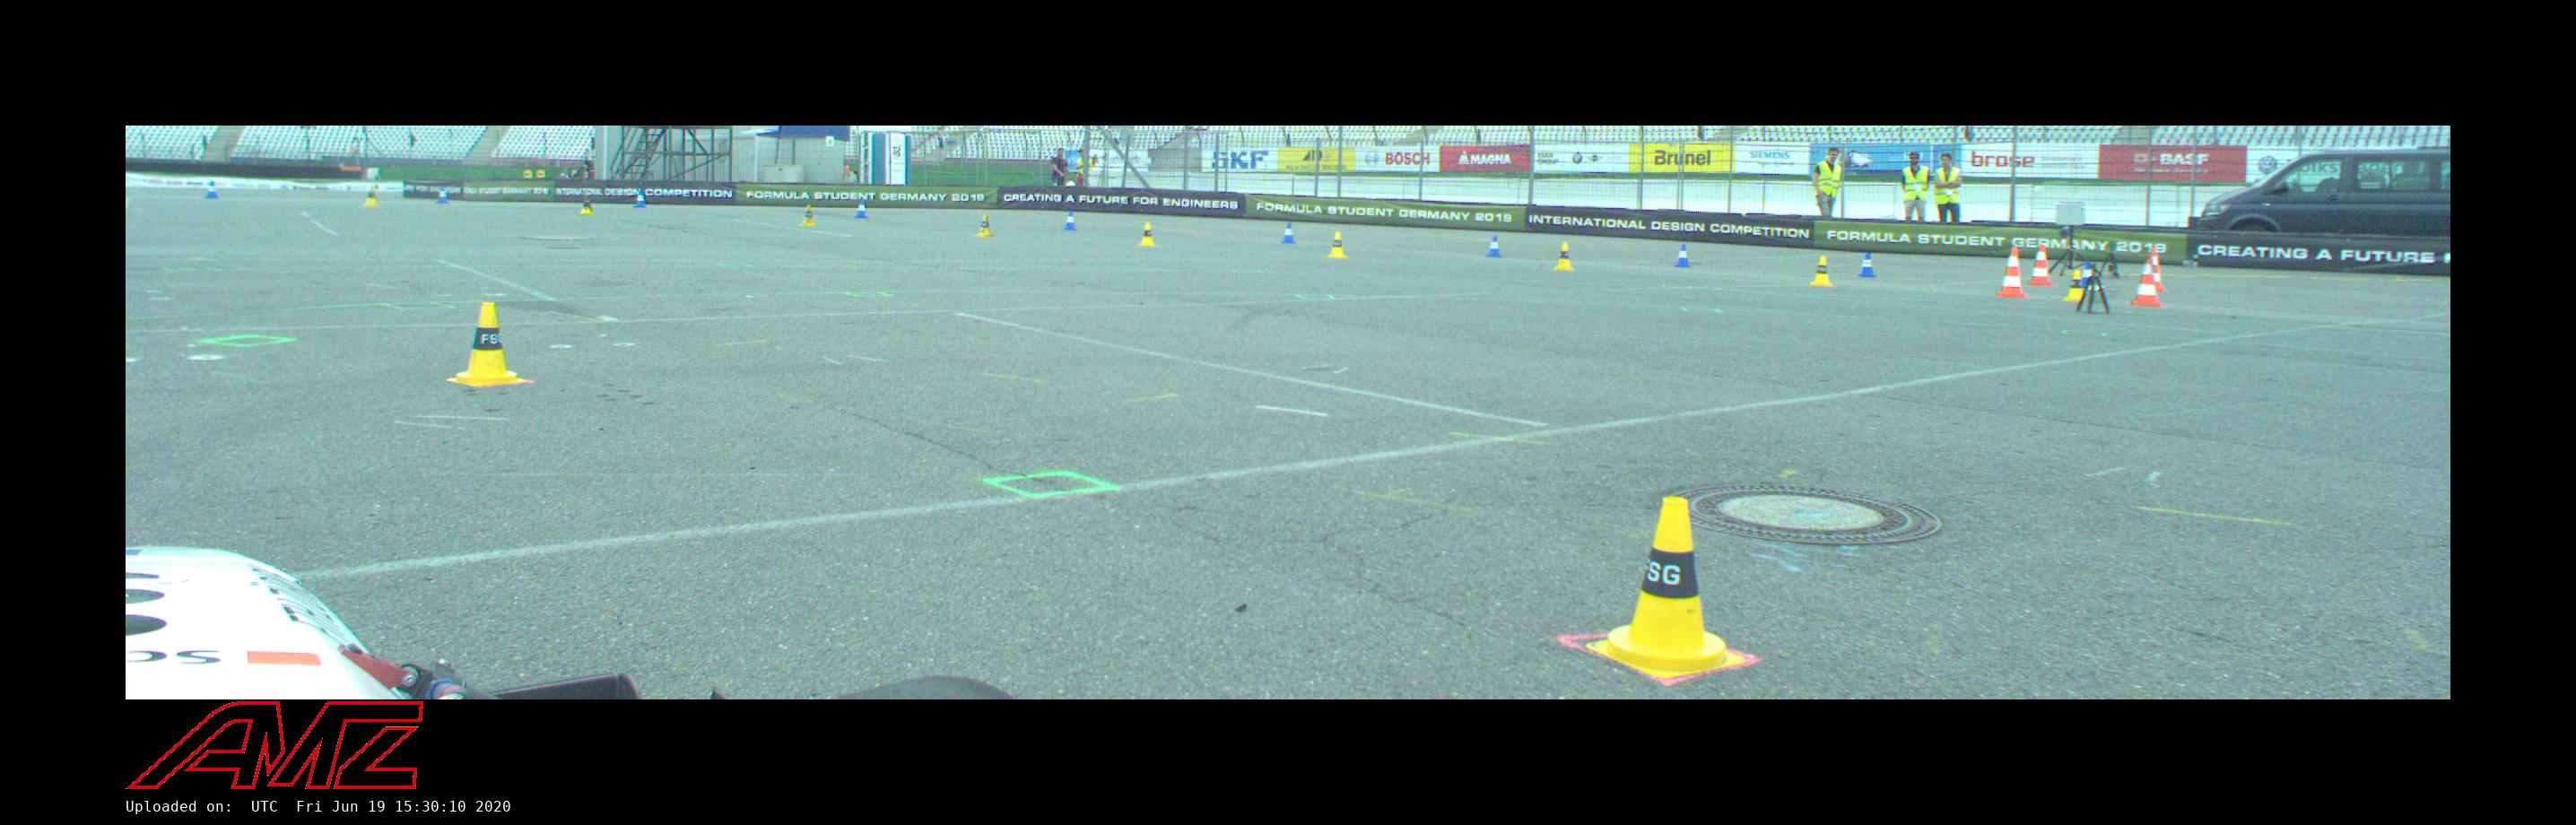blue_cone: (1858, 251, 1876, 278), (1674, 245, 1692, 268), (1487, 237, 1502, 258), (1281, 224, 1295, 243), (2081, 263, 2091, 288), (205, 181, 218, 199), (1065, 212, 1078, 230), (636, 191, 647, 209), (856, 200, 867, 219), (434, 189, 447, 202)
large_orange_cone: (1994, 248, 2034, 299), (2126, 260, 2162, 307), (2026, 245, 2058, 286), (2152, 250, 2169, 291)
yellow_cone: (1587, 496, 1746, 679), (447, 302, 527, 385), (1810, 256, 1832, 286), (1326, 232, 1349, 258), (1554, 242, 1574, 271), (2063, 270, 2083, 299), (1138, 222, 1157, 248), (976, 214, 994, 237), (800, 204, 817, 227), (363, 186, 380, 207), (580, 197, 596, 215)
